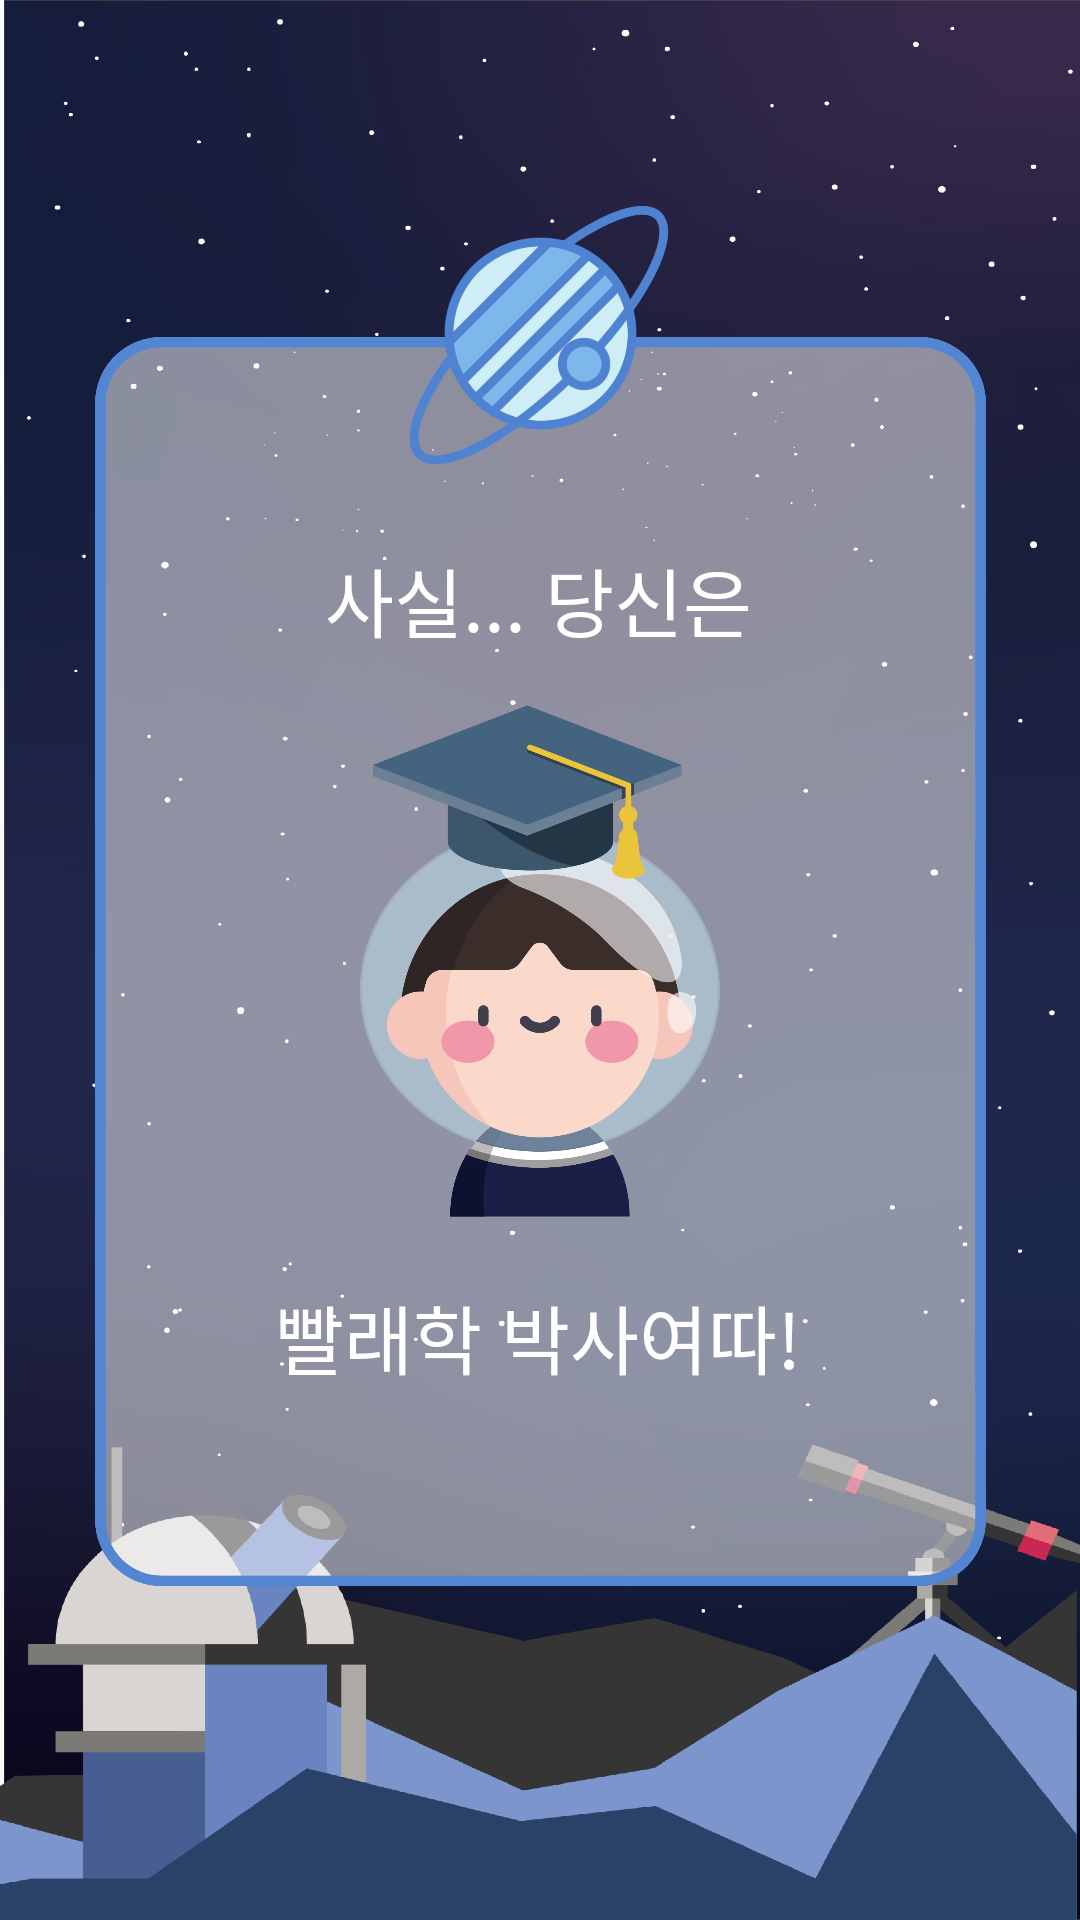

Screen size 1080x1920. Icon name, then its center in pixels as (x,y):
saturn: (540,333)
